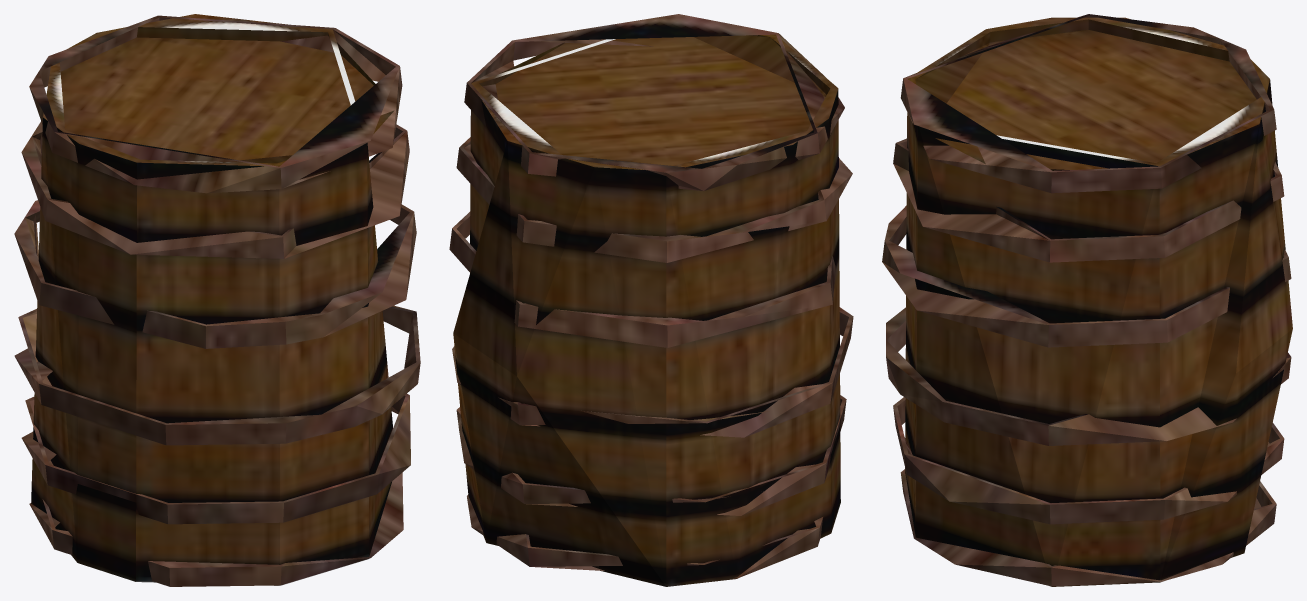
File: crate_barrel.glb
3 views of the same model, side by side, from view 1: azimuth 30°, elevation 25°; view 2: azimuth 150°, elevation 25°; view 3: azimuth 270°, elevation 25° (orthographic).
Parts seen in each view (by area): view 1: Cylinder; view 2: Cylinder; view 3: Cylinder.
Boxes of the visible parts, x1,y1,x2,y2 form: Cylinder: (14,14,420,586); Cylinder: (449,14,853,586); Cylinder: (882,14,1292,586).
Bounding box in the file's own units: 0.8012 × 0.897 × 0.8042.
Materials: 2 (2 with a texture image).
